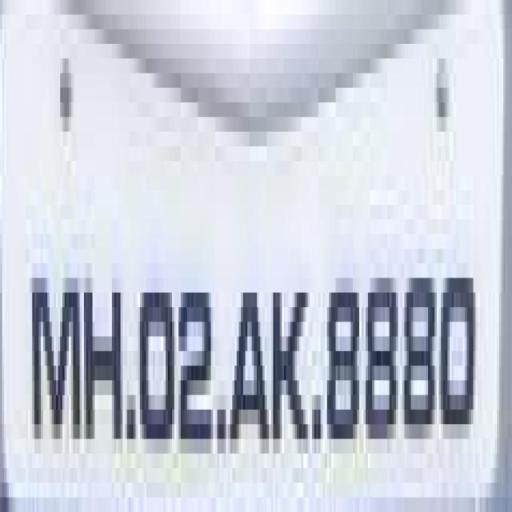number plate: (10, 14, 478, 512)
